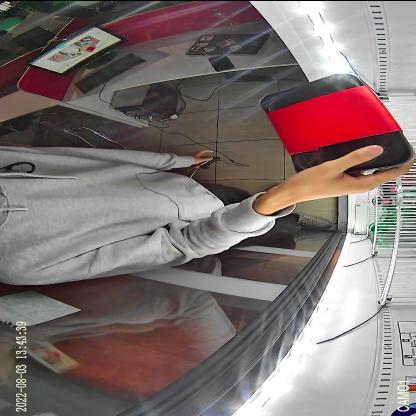red: (259, 72, 413, 177)
